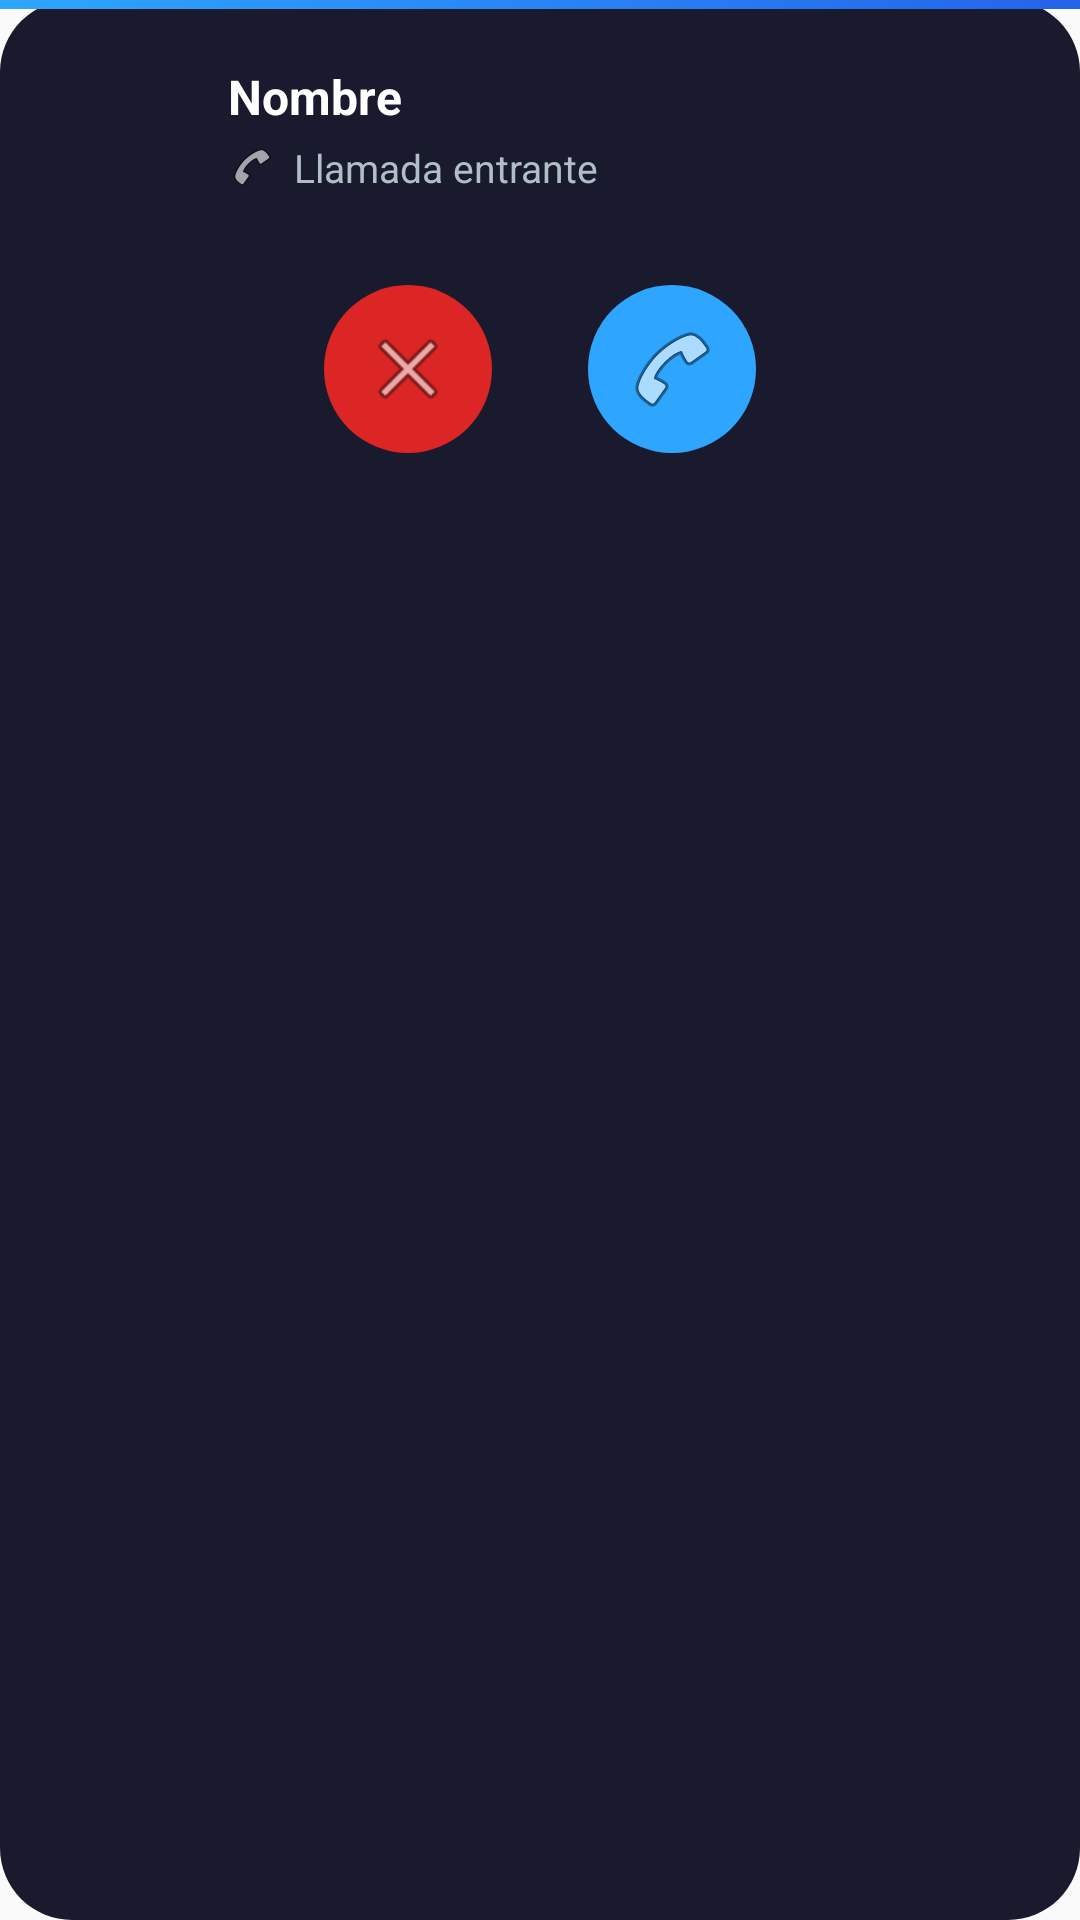

Where to tap for icons on this 1080×1920 app screen, as (x=x, y=y):
Colgar: (x=408, y=369)
Responder: (x=672, y=369)
